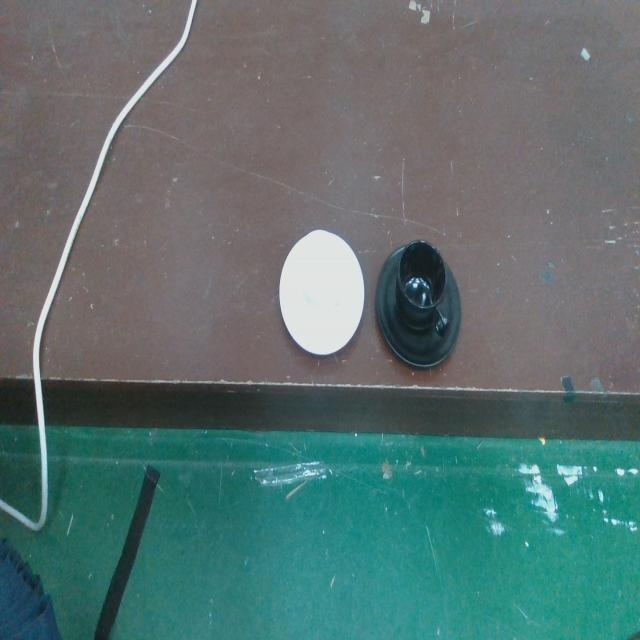black: (373, 236, 463, 372)
white: (276, 226, 366, 361)
